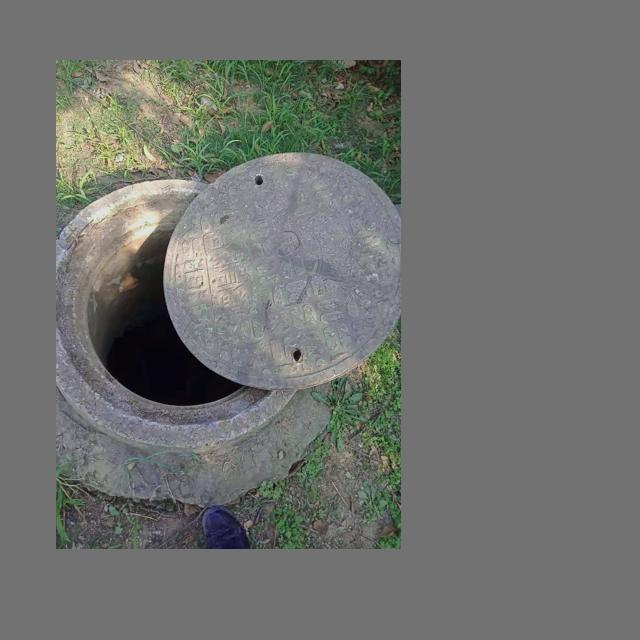uncovered: (56, 150, 398, 450)
